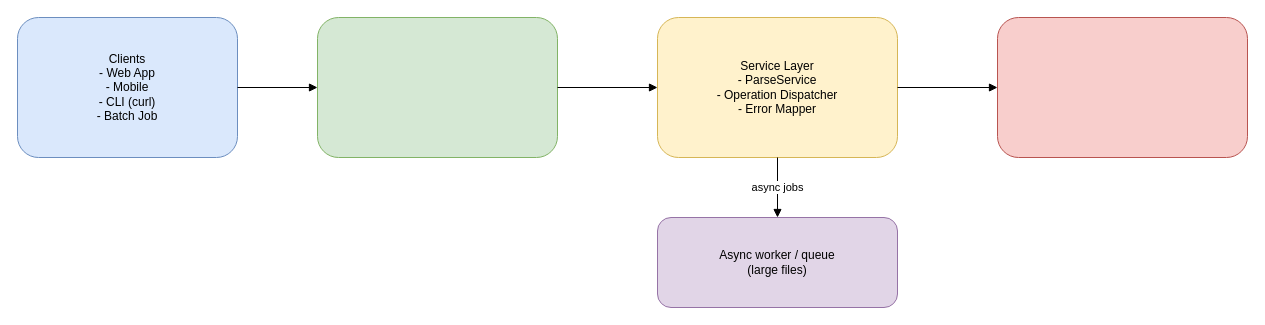
Some shapes in this 1265 by 325 pixel diagram are drawn without their labels. The box of each missing label's shape, as (x1, y1, x2, y2) in pixels:
API Layer - HTTP Routes - Validation - Auth/Rate Limit: (316, 16, 558, 158)
pdf-parse Core - IPDFSource - IPDFParser Session - IPDFExtractor: (996, 16, 1248, 158)
